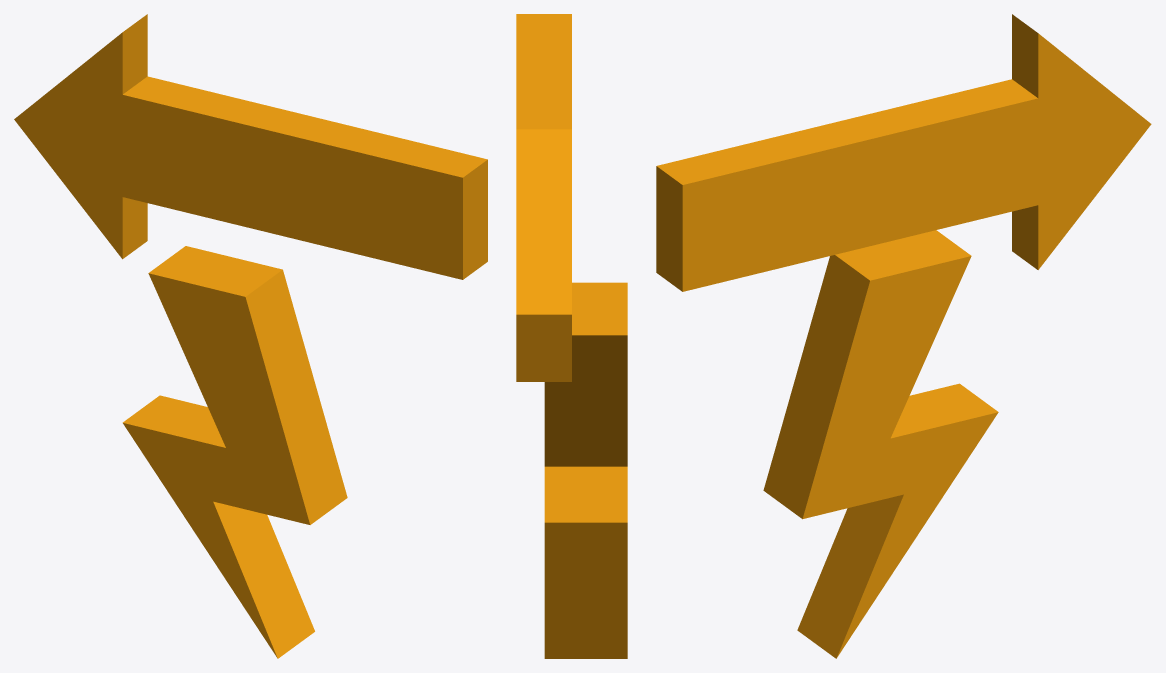
Rendered from baryanson.gltf.
3 renders of one model, left to right at view 1: azimuth 30°, elevation 25°; view 2: azimuth 150°, elevation 25°; view 3: azimuth 270°, elevation 25°, orthographic. The views are drawn at different scales.
Parts seen in each view (by area): view 1: Cube.002, Simsek3.008; view 2: Simsek3.008, Cube.002; view 3: Cube.002, Simsek3.008.
Part boxes in pixels (x1=…): Cube.002: x1=14, y1=14, x2=487, y2=279; Simsek3.008: x1=122, y1=246, x2=347, y2=658; Simsek3.008: x1=544, y1=282, x2=627, y2=658; Cube.002: x1=516, y1=14, x2=571, y2=381; Cube.002: x1=656, y1=14, x2=1151, y2=291; Simsek3.008: x1=763, y1=230, x2=998, y2=658.
Size of the model in its own units: 0.0603 by 0.1242 by 0.0945.
